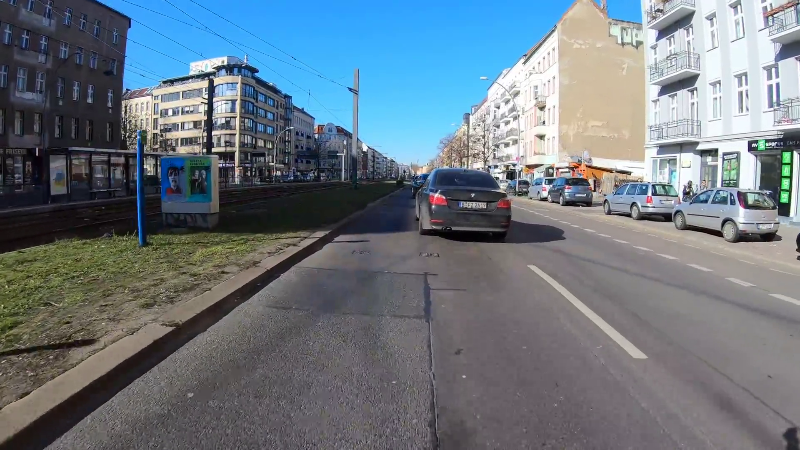Plate: (456, 199, 489, 209), (755, 222, 774, 229), (660, 201, 676, 205), (575, 193, 586, 197)
